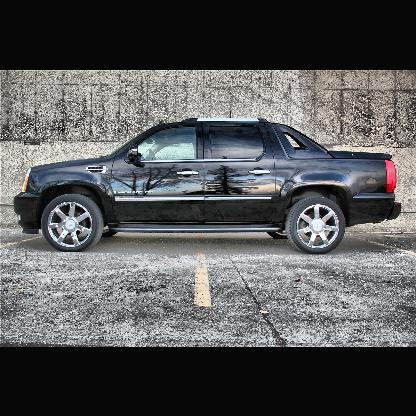Cadillac Escalade EXT Crew Cab 2007: (7, 83, 413, 286)
